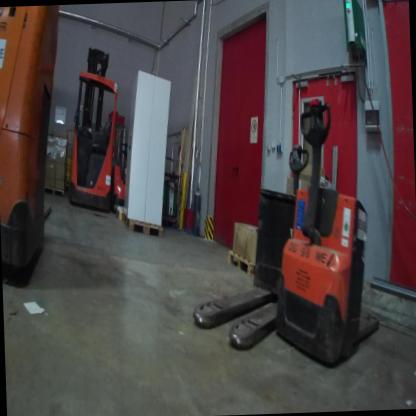forklift: (59, 40, 122, 228)
pallet: (123, 212, 166, 239), (222, 246, 255, 273), (43, 185, 69, 202), (113, 206, 132, 225)
pallet_truck: (274, 93, 393, 369), (187, 135, 320, 358), (0, 6, 73, 297)
